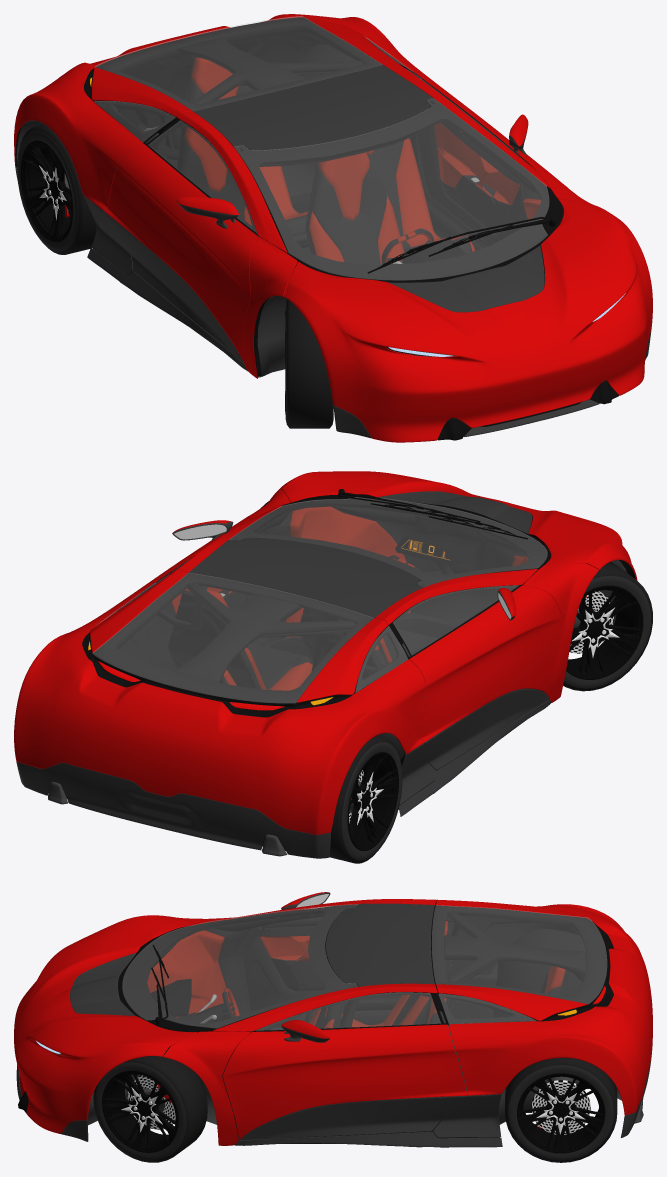
File: car-ksgVdk1M.glb
3 renders of one model, top to bottom at view 1: azimuth 30°, elevation 25°; view 2: azimuth 150°, elevation 25°; view 3: azimuth 270°, elevation 25°, orthographic. The views are drawn at different scales.
Parts seen in each view (by area): view 1: BodyHood, BodyWindshield, BodyRearwindow, BodyDoorRColor1, BodyRearPanelsColor1, BodyRoofPanel, BodyWindshieldGasket, InteriorSeatsColor1, InteriorSeatsColor2, BodyPillars, InteriorPillar, InteriorRearHatch (+21 smaller); view 2: BodyRearPanelsColor1, BodyRearwindow, BodyWindshield, BodyPanelsColor2, BodyDoorRColor1, BodyRoofPanel, BodyHood, InteriorRearHatch, BodyPillars, InteriorPillar, InteriorDashMid, BodyWindshieldGasket (+21 smaller); view 3: BodyRearPanelsColor1, BodyWindshield, BodyDoorLColor1, BodyHood, BodyRearwindow, BodyRoofPanel, BodyPillars, BodyWindshieldGasket, BodyDoorLColor2, BodyPanelsColor2, WheelFrontL, InteriorRearHatch (+25 smaller).
Boxes of the visible parts, <box> form: BodyHood: <box>283,198,652,442</box>; BodyWindshield: <box>234,98,549,280</box>; BodyRearwindow: <box>95,16,382,110</box>; BodyDoorRColor1: <box>104,143,257,362</box>; BodyRearPanelsColor1: <box>14,14,428,210</box>; BodyRoofPanel: <box>193,65,432,150</box>; BodyWindshieldGasket: <box>234,99,563,282</box>; InteriorSeatsColor1: <box>185,57,475,264</box>; InteriorSeatsColor2: <box>180,78,472,264</box>; BodyPillars: <box>176,61,598,378</box>; InteriorPillar: <box>158,37,434,168</box>; InteriorRearHatch: <box>93,17,383,117</box>; BodyRearPanelsColor1: <box>14,569,425,834</box>; BodyRearwindow: <box>92,573,373,703</box>; BodyWindshield: <box>229,497,547,587</box>; BodyPanelsColor2: <box>16,700,550,858</box>; BodyDoorRColor1: <box>409,585,562,742</box>; BodyRoofPanel: <box>189,537,422,617</box>; BodyHood: <box>279,471,637,580</box>; InteriorRearHatch: <box>93,573,386,707</box>; BodyPillars: <box>175,489,599,702</box>; InteriorPillar: <box>174,574,417,682</box>; InteriorDashMid: <box>331,503,528,623</box>; BodyWindshieldGasket: <box>230,497,550,587</box>; BodyRearPanelsColor1: <box>436,899,652,1115</box>; BodyWindshield: <box>122,904,357,1028</box>; BodyDoorLColor1: <box>222,1024,467,1139</box>; BodyHood: <box>14,915,196,1133</box>; BodyRearwindow: <box>432,905,606,1003</box>; BodyRoofPanel: <box>326,903,434,986</box>; BodyPillars: <box>163,899,437,1145</box>; BodyWindshieldGasket: <box>118,905,357,1032</box>; BodyDoorLColor2: <box>240,1096,467,1140</box>; BodyPanelsColor2: <box>16,1050,652,1147</box>; WheelFrontL: <box>93,1054,207,1162</box>; InteriorRearHatch: <box>431,905,606,1020</box>.
Bounding box in the file's own units: 2.54 × 1.15 × 4.36.
Materials: 22 (2 with a texture image).
